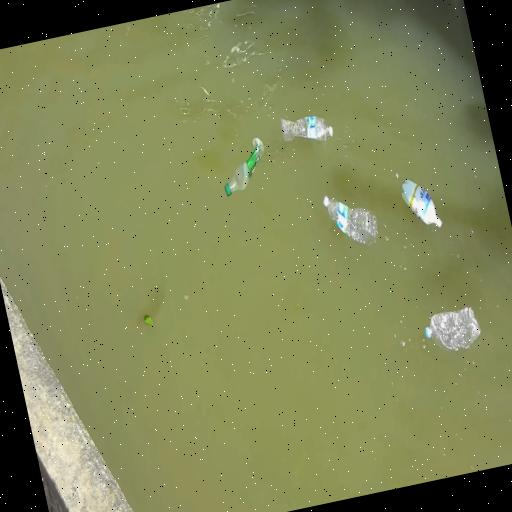plastic: (323, 197, 377, 244), (425, 308, 479, 350), (224, 138, 263, 196), (401, 180, 441, 227), (280, 116, 332, 141)
